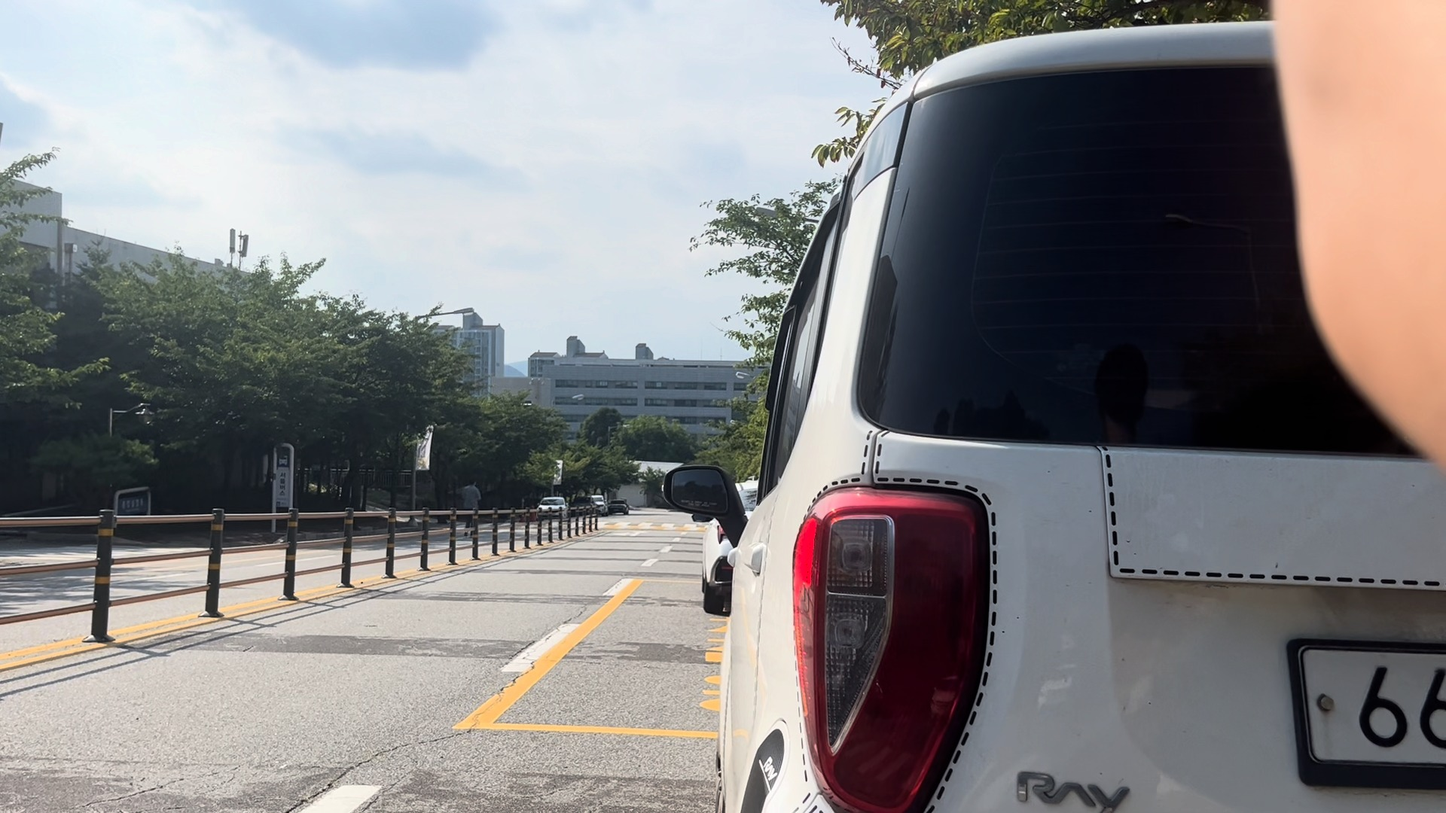license_plate: (1288, 639, 1445, 788)
tail_light: (793, 489, 988, 812)
